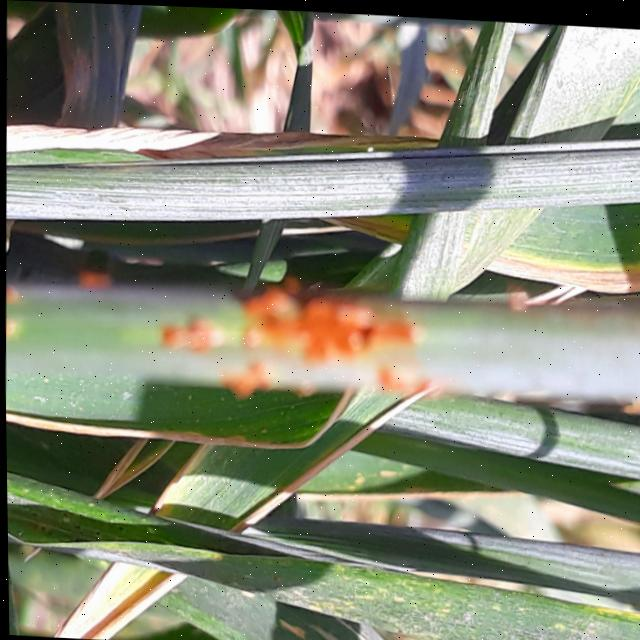black_stem_rust: (2, 211, 640, 442)
